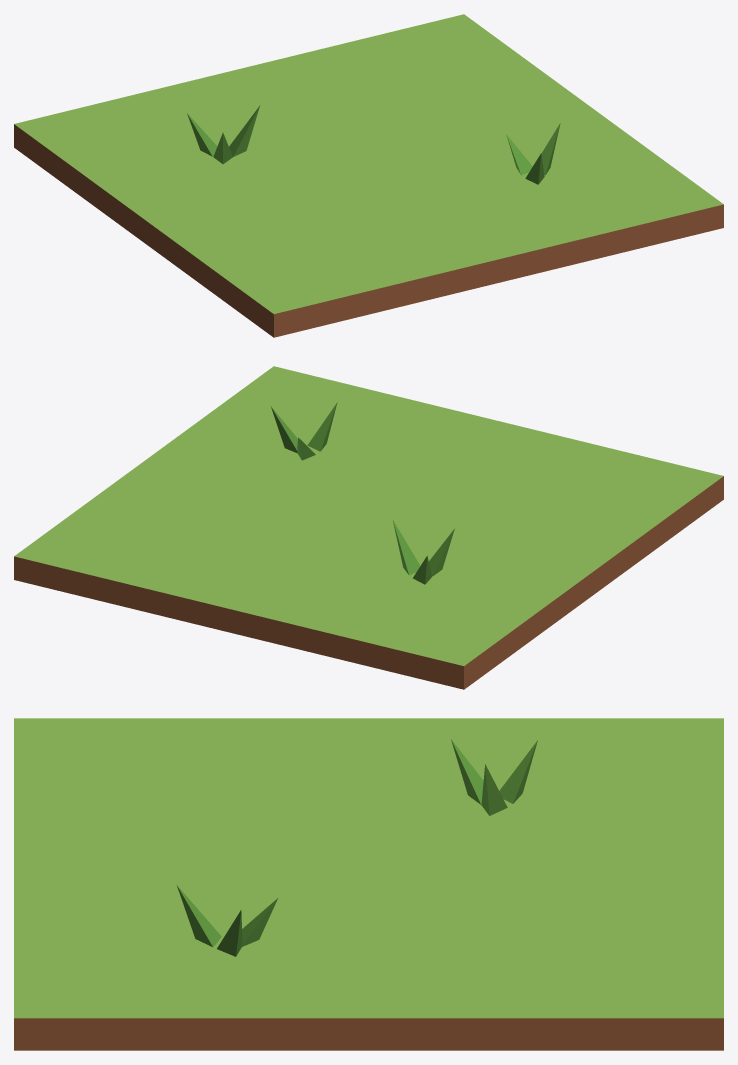
Rendered from grass_tile.glb.
The picture shows the model from 3 angles, top to bottom: view 1: azimuth 30°, elevation 25°; view 2: azimuth 150°, elevation 25°; view 3: azimuth 270°, elevation 25°; orthographic projection. The views are drawn at different scales.
Parts seen in each view (by area): view 1: grass_tile; view 2: grass_tile; view 3: grass_tile.
Boxes of the visible parts, x1=… form: grass_tile: x1=14, y1=14, x2=723, y2=337; grass_tile: x1=14, y1=366, x2=723, y2=689; grass_tile: x1=14, y1=718, x2=723, y2=1050.
Size of the model in its own units: 1 by 0.1442 by 1.
Materials: 1 (1 with a texture image).
